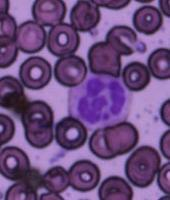N: (67, 72, 132, 130)
